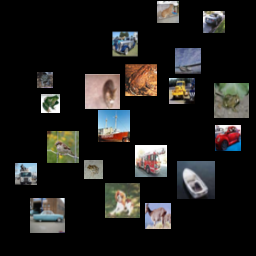airplane: (28, 8, 66, 46), (65, 150, 97, 182), (108, 117, 140, 149), (201, 209, 230, 238), (129, 167, 155, 193)
automobile: (196, 40, 228, 72), (193, 117, 215, 139)
bird: (58, 56, 80, 78), (99, 63, 118, 82)
cat: (127, 69, 162, 104), (26, 189, 58, 221), (69, 94, 101, 126), (81, 17, 110, 46)
dog: (25, 90, 57, 122)
frog: (208, 143, 246, 181), (141, 23, 179, 61), (19, 148, 45, 174), (201, 81, 223, 103), (148, 148, 164, 164)
